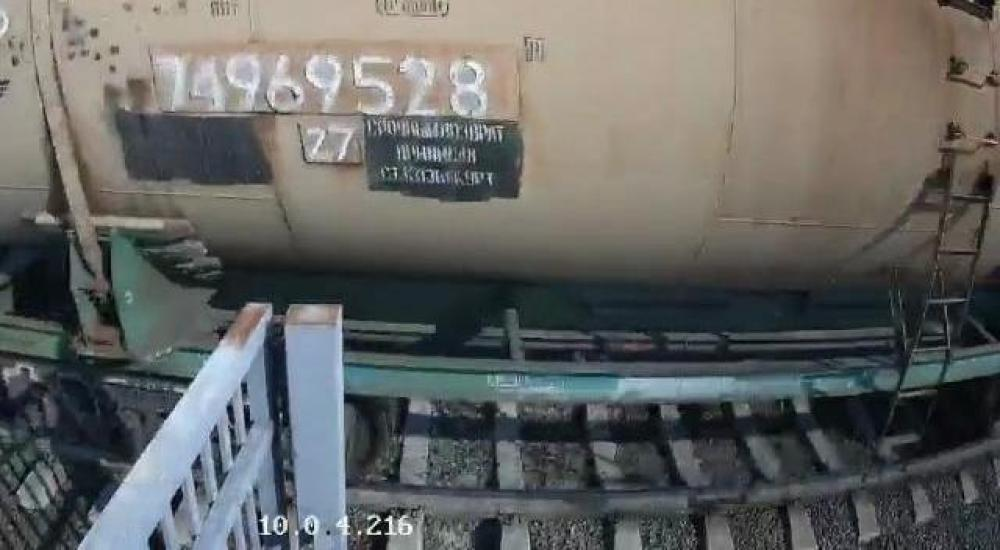Wagon-number: (153, 50, 497, 119)
